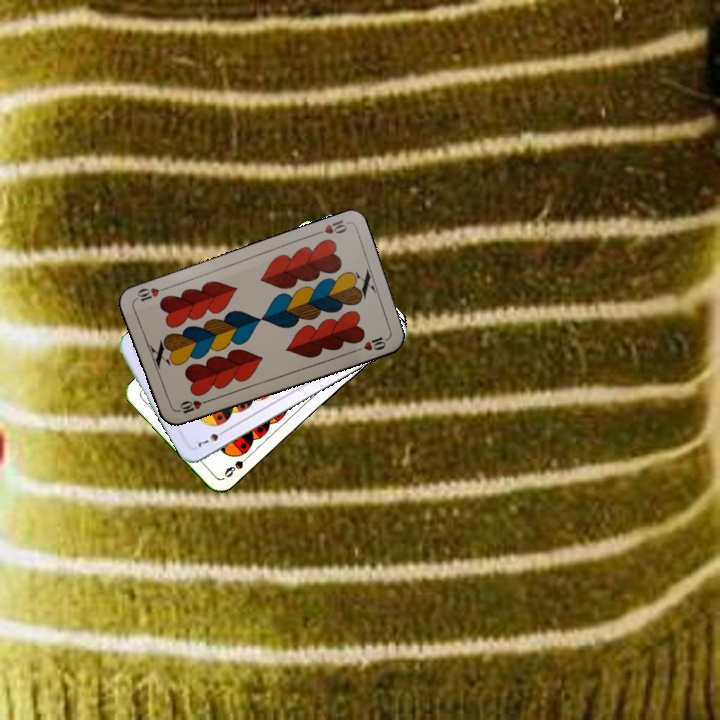H10: (310, 216, 350, 238), (172, 396, 212, 416)
S7: (192, 425, 229, 450)
S9: (220, 450, 253, 480)
